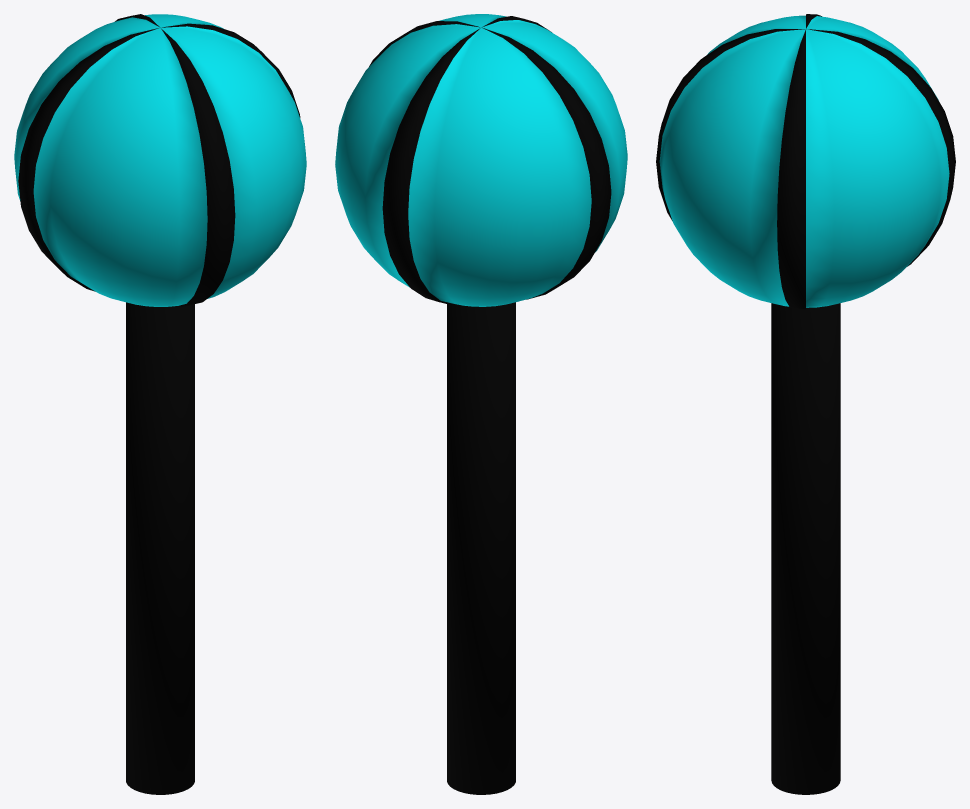
File: Lamp.fbx
3 views of the same model, side by side, from view 1: azimuth 30°, elevation 25°; view 2: azimuth 150°, elevation 25°; view 3: azimuth 270°, elevation 25° (orthographic).
Parts seen in each view (by area): view 1: Sphere, Cylinder; view 2: Sphere, Cylinder; view 3: Sphere, Cylinder.
Boxes of the visible parts, left/top/right/bottom form: Sphere: left=14, top=14, right=306, bottom=306; Cylinder: left=126, top=302, right=194, bottom=794; Sphere: left=335, top=14, right=627, bottom=306; Cylinder: left=447, top=302, right=515, bottom=794; Sphere: left=656, top=14, right=955, bottom=309; Cylinder: left=771, top=303, right=840, bottom=794.
Size of the model in its own units: 205 by 566 by 205.
